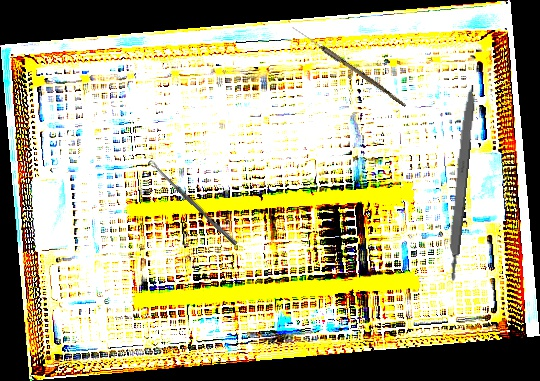Scalpel Handle: (443, 83, 478, 282)
Surgical Spoon: (290, 24, 408, 108), (148, 159, 238, 246)
